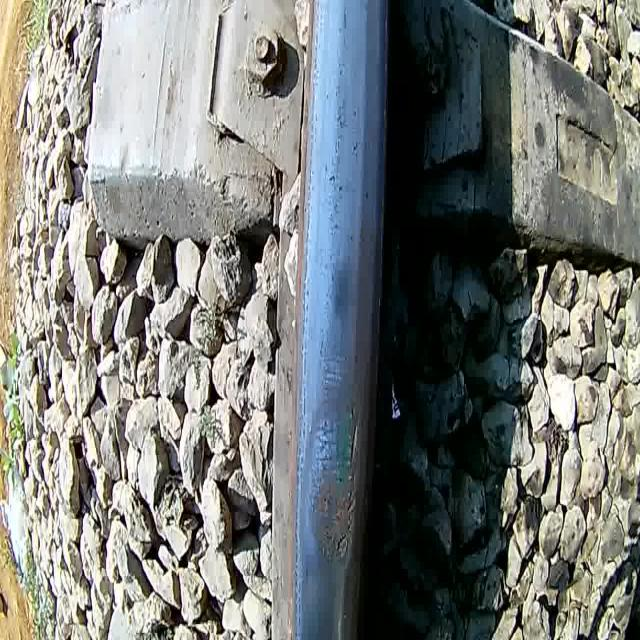Cracks: (340, 394, 360, 530)
Spallings: (334, 528, 351, 570)
Squats: (307, 464, 355, 566)
